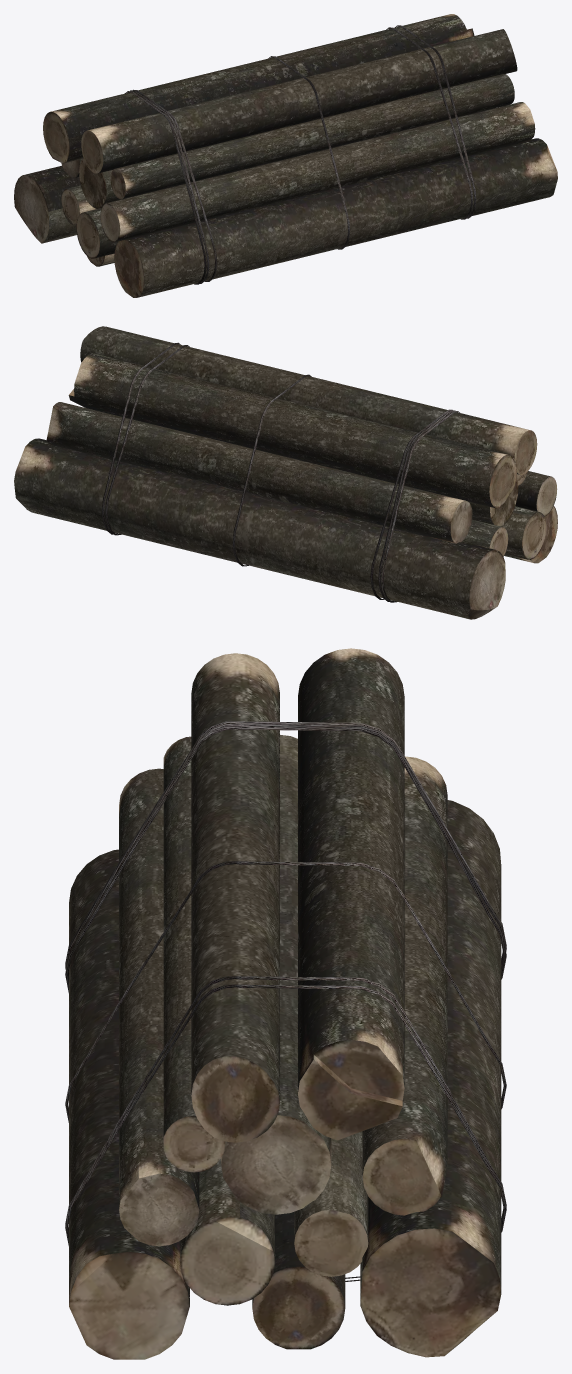
3 views of the same model, one above another, from view 1: azimuth 30°, elevation 25°; view 2: azimuth 150°, elevation 25°; view 3: azimuth 270°, elevation 25° (orthographic). The views are drawn at different scales.
Visible parts, largest first — view 1: body0_model0_lod0_mesh0; view 2: body0_model0_lod0_mesh0; view 3: body0_model0_lod0_mesh0.
Part boxes in pixels (x1=…): body0_model0_lod0_mesh0: x1=14, y1=14, x2=557, y2=297; body0_model0_lod0_mesh0: x1=14, y1=326, x2=557, y2=619; body0_model0_lod0_mesh0: x1=65, y1=648, x2=506, y2=1359.
Size of the model in its own units: 185 by 60.26 by 80.
Materials: 1 (1 with a texture image).
